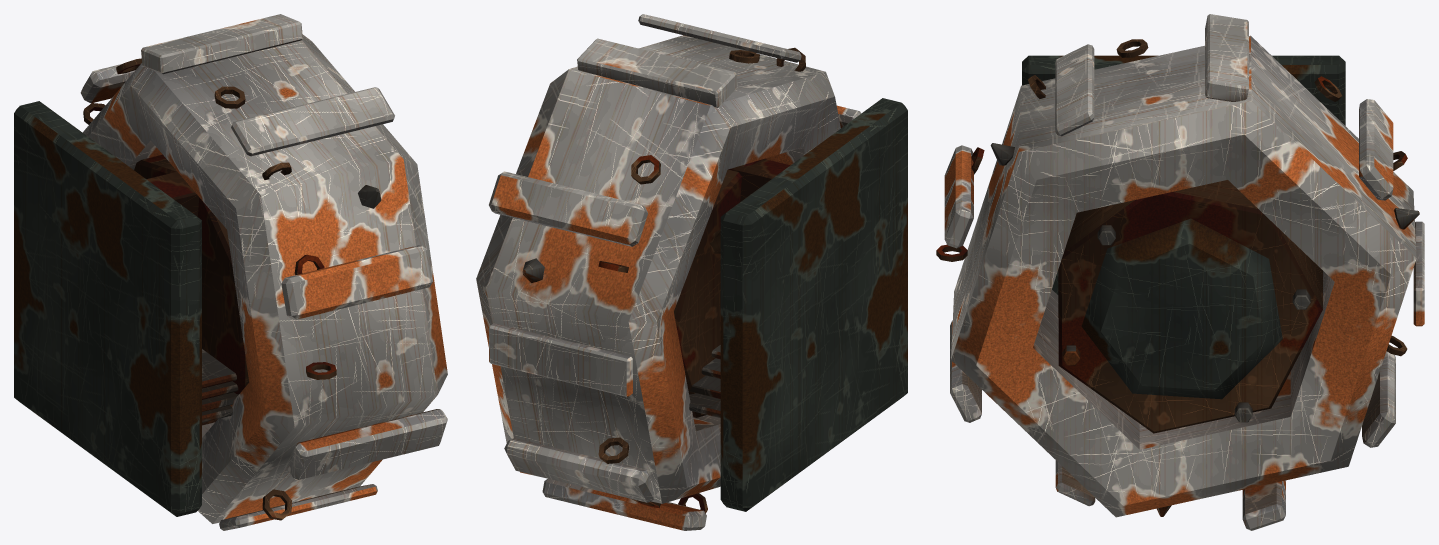
Rendered from R4M_WheelM_Side_Offroad_LOD1.glb.
The picture shows the model from 3 angles, left to right: view 1: azimuth 30°, elevation 25°; view 2: azimuth 150°, elevation 25°; view 3: azimuth 270°, elevation 25°; orthographic projection.
Parts seen in each view (by area): view 1: R4M_WheelM_Side_Offroad_LOD1; view 2: R4M_WheelM_Side_Offroad_LOD1; view 3: R4M_WheelM_Side_Offroad_LOD1.
Part boxes in pixels (bbox=[...]): R4M_WheelM_Side_Offroad_LOD1: bbox=[14, 14, 447, 530]; R4M_WheelM_Side_Offroad_LOD1: bbox=[476, 14, 907, 530]; R4M_WheelM_Side_Offroad_LOD1: bbox=[936, 14, 1424, 530].
Size of the model in its own units: 0.448 by 0.7696 by 0.7542.
4 materials, 4 textured.
